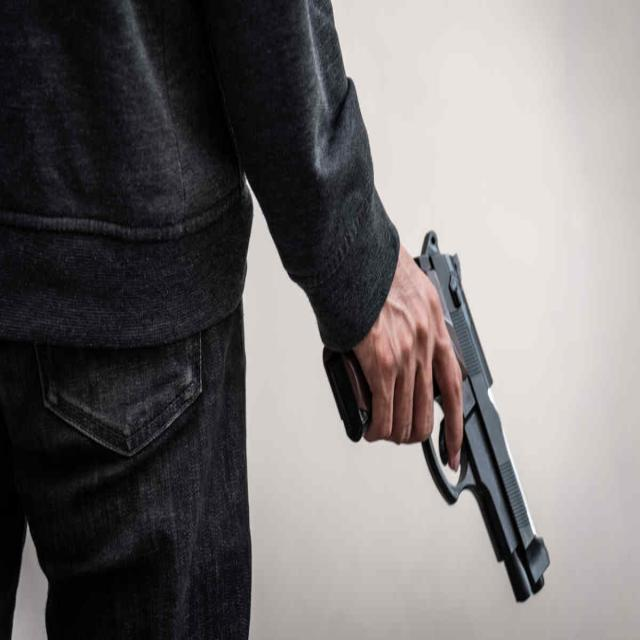HandGun: (418, 231, 550, 604)
